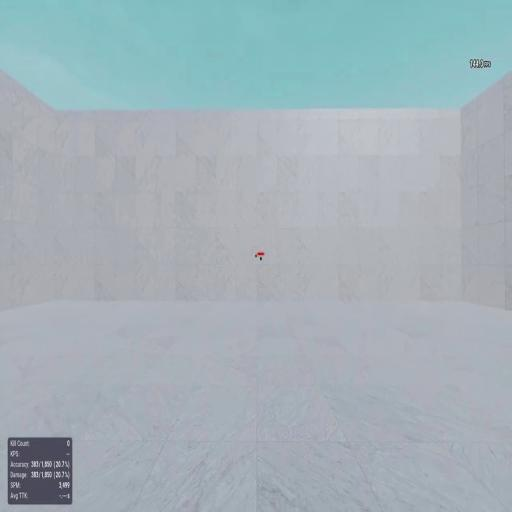Crosshair: (255, 254, 257, 258)
Target: (260, 256, 262, 260)
